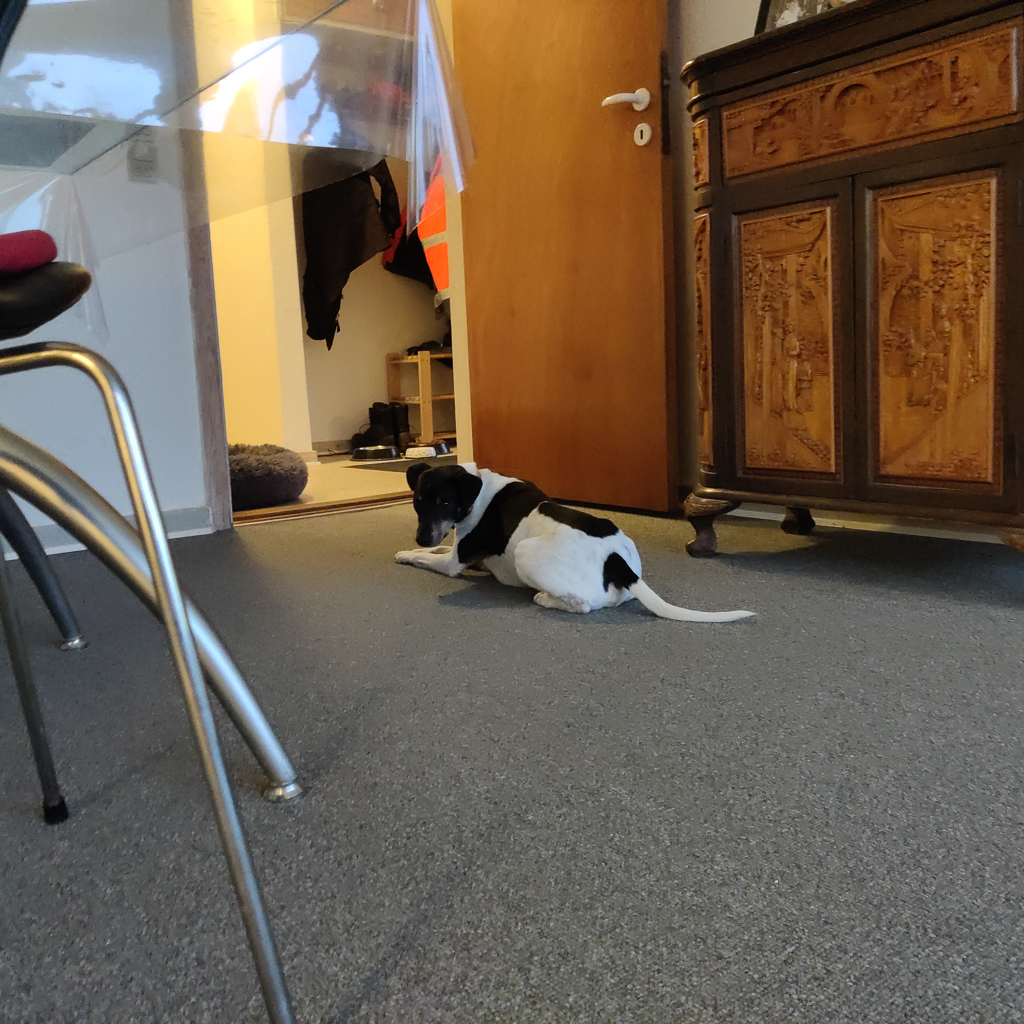Dog: (382, 446, 770, 636)
